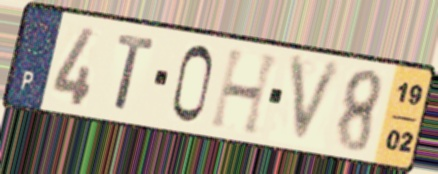0: (171, 42, 214, 125)
4: (48, 21, 96, 111)
8: (332, 67, 386, 154)
H: (206, 46, 285, 139)
T: (112, 31, 159, 113)
V: (286, 52, 348, 150)
